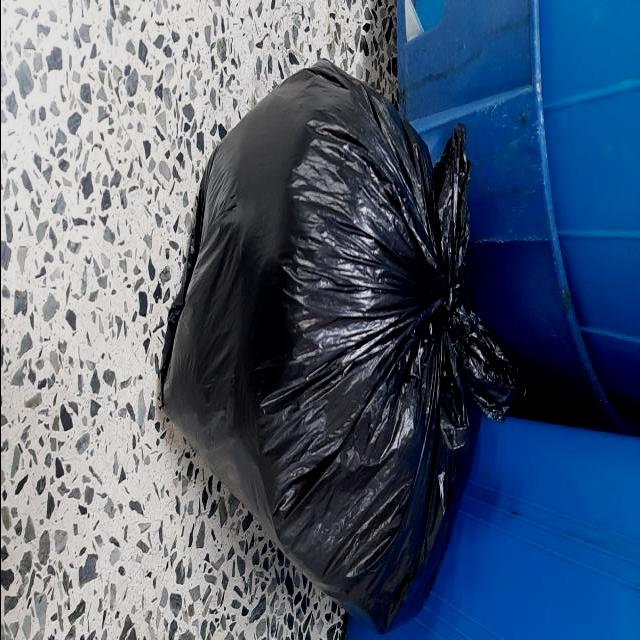black_bag: (156, 59, 529, 634)
